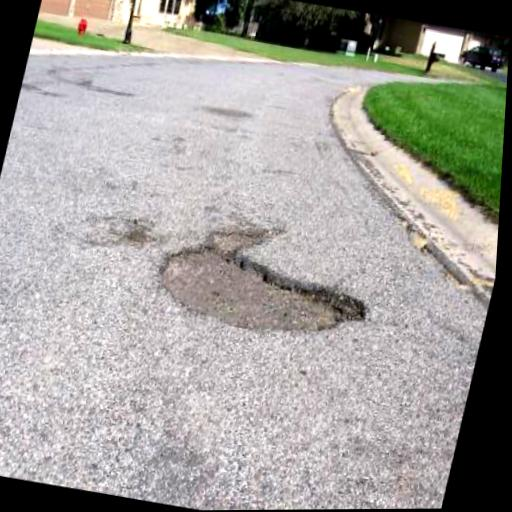pothole: (145, 233, 381, 349), (206, 216, 278, 257), (123, 224, 158, 249)
